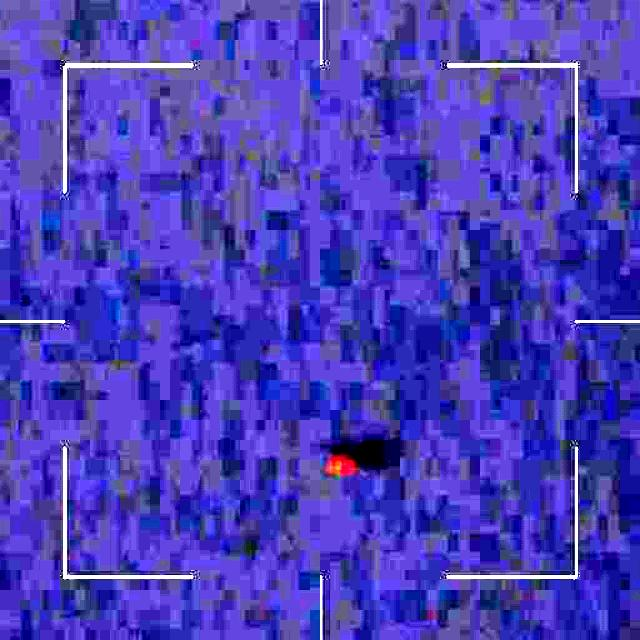bird: (328, 446, 365, 482)
